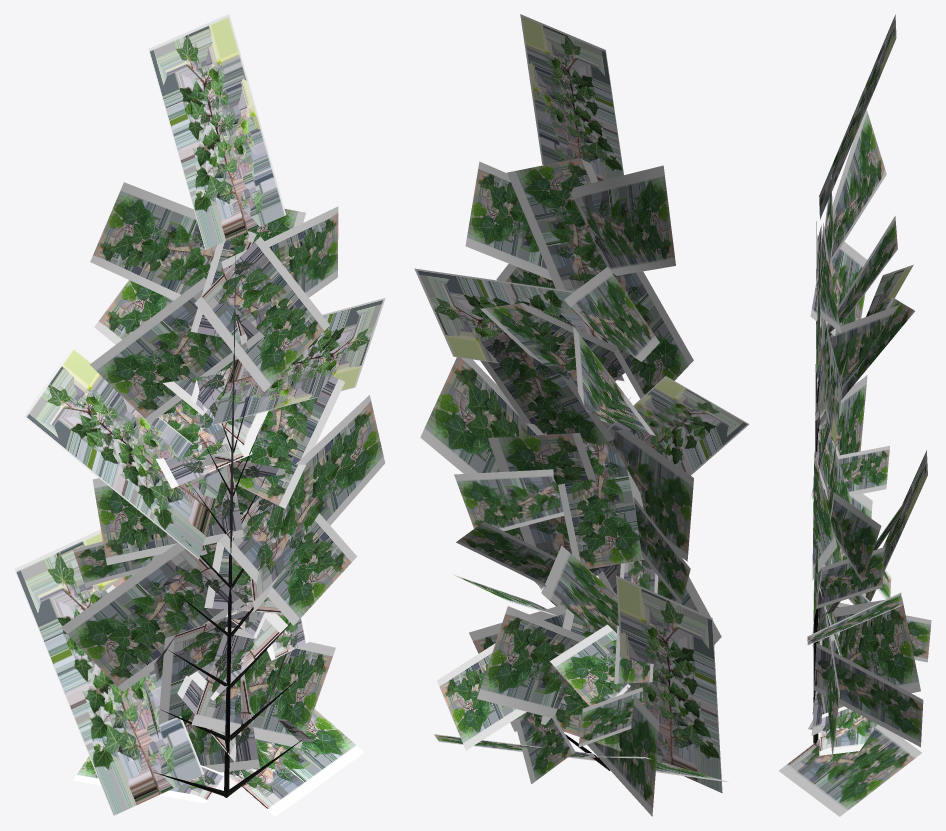
File: Ivy1.fbx
The picture shows the model from 3 angles, left to right: view 1: azimuth 30°, elevation 25°; view 2: azimuth 150°, elevation 25°; view 3: azimuth 270°, elevation 25°; orthographic projection. The views are drawn at different scales.
Parts seen in each view (by area): view 1: Ivy1; view 2: Ivy1; view 3: Ivy1.
Part boxes in pixels (x1,y1,x2,y2): Ivy1: (14,14,385,816); Ivy1: (414,14,749,816); Ivy1: (779,14,931,816).
Size of the model in its own units: 169 by 357 by 67.02.
